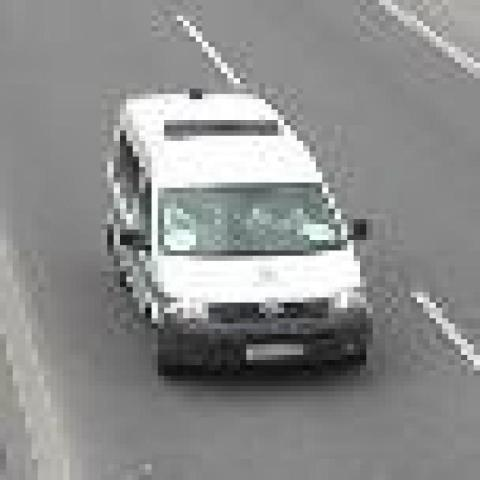van: (110, 99, 370, 376)
